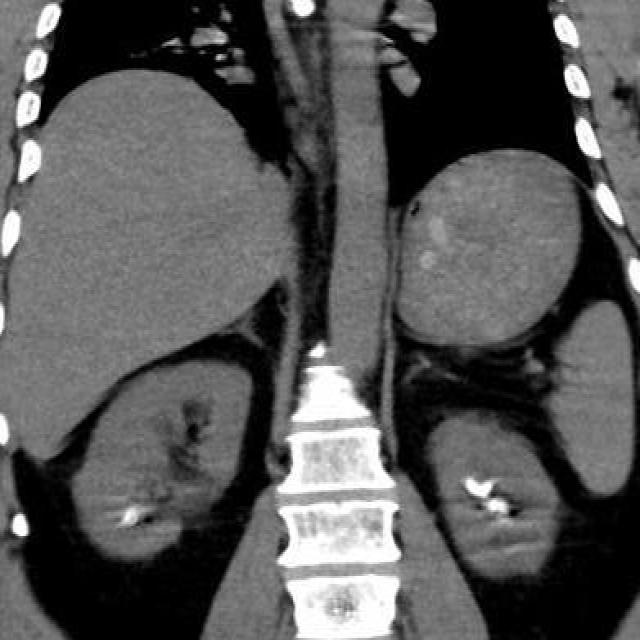Tas_Var: (110, 498, 150, 542), (477, 495, 513, 521), (460, 475, 501, 497)
